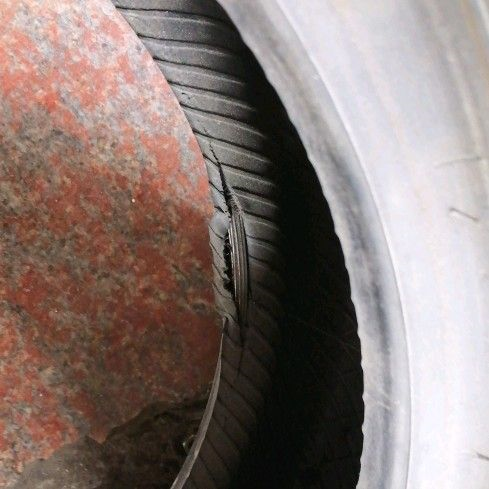bead_damage: (174, 96, 257, 388)
